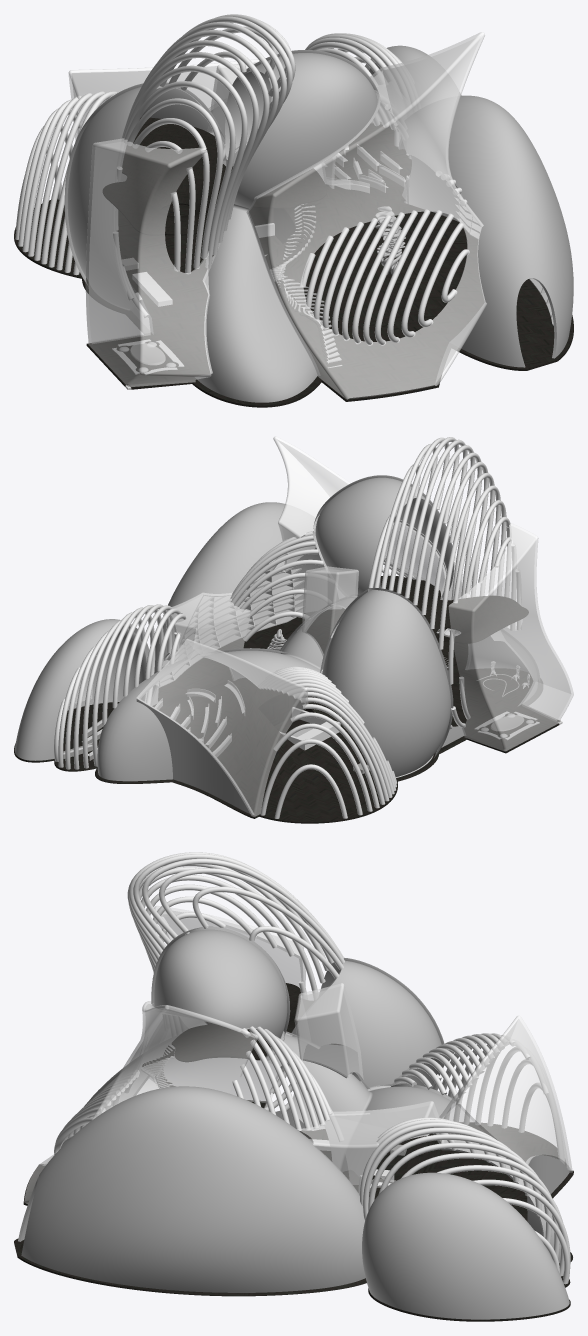
3 views of the same model, one above another, from view 1: azimuth 30°, elevation 25°; view 2: azimuth 150°, elevation 25°; view 3: azimuth 270°, elevation 25° (orthographic). The views are drawn at different scales.
Visible parts, largest first — view 1: Merged Objects 1, Merged Objects 3, Merged Objects 4, Merged Objects 2; view 2: Merged Objects 3, Merged Objects 1, Merged Objects 2, Merged Objects 4; view 3: Merged Objects 3, Merged Objects 2, Merged Objects 1, Merged Objects 4.
Part boxes in pixels (x1=…): Merged Objects 1: x1=68, y1=32, x2=486, y2=399; Merged Objects 3: x1=64, y1=45, x2=573, y2=402; Merged Objects 4: x1=14, y1=117, x2=573, y2=407; Merged Objects 2: x1=15, y1=14, x2=552, y2=389; Merged Objects 3: x1=14, y1=475, x2=535, y2=814; Merged Objects 1: x1=63, y1=436, x2=573, y2=816; Merged Objects 2: x1=54, y1=437, x2=562, y2=818; Merged Objects 4: x1=14, y1=575, x2=560, y2=823; Merged Objects 3: x1=18, y1=926, x2=569, y2=1319; Merged Objects 2: x1=54, y1=852, x2=570, y2=1284; Merged Objects 1: x1=24, y1=905, x2=572, y2=1203; Merged Objects 4: x1=14, y1=983, x2=573, y2=1321.
Bounding box in the file's own units: 55.38 × 35 × 58.06.
Materials: 4 (1 with a texture image).
